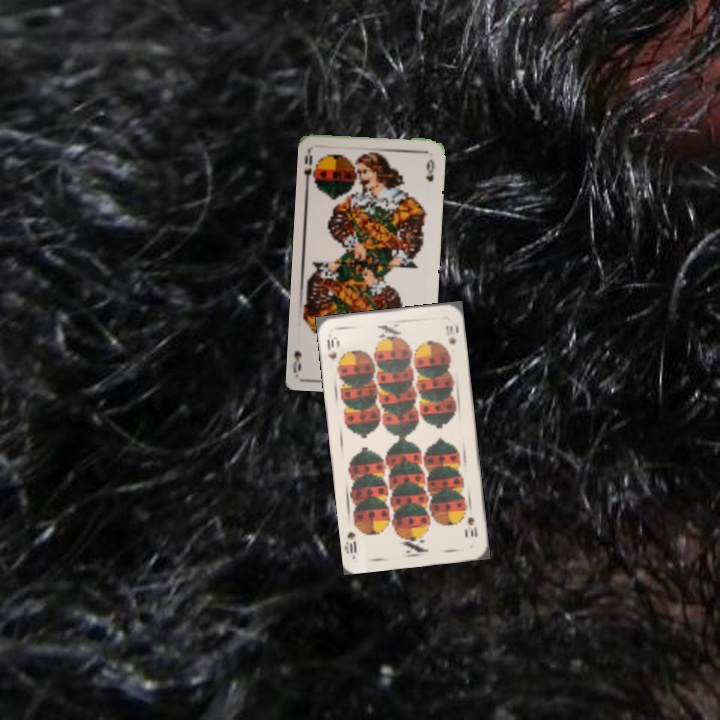S10: (323, 332, 341, 362), (463, 513, 480, 540)
SO: (300, 145, 320, 186)
